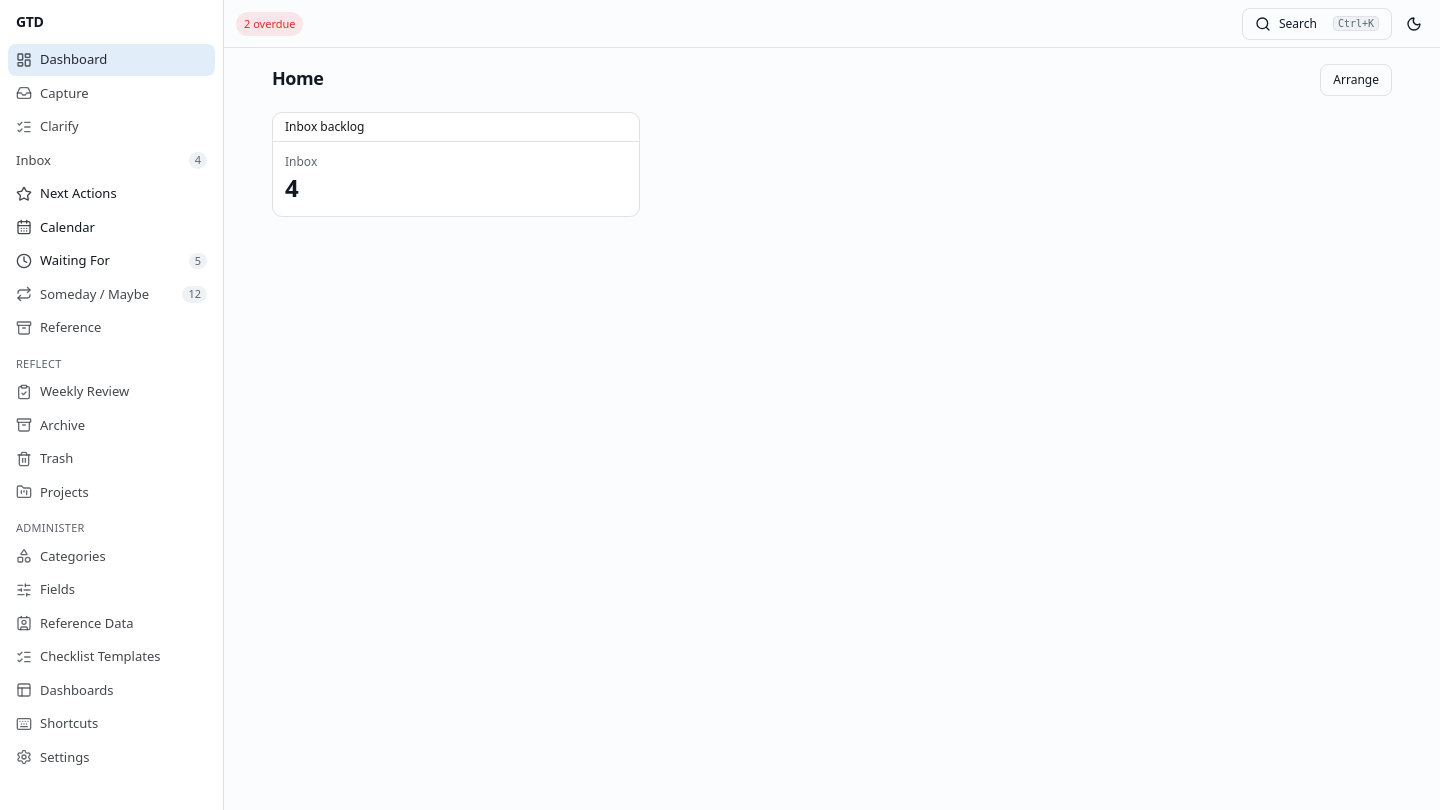
Test: arranging › offers an arrange mode
Click the button "Arrange".
click(1356, 80)  # box [1320,64,1392,96]
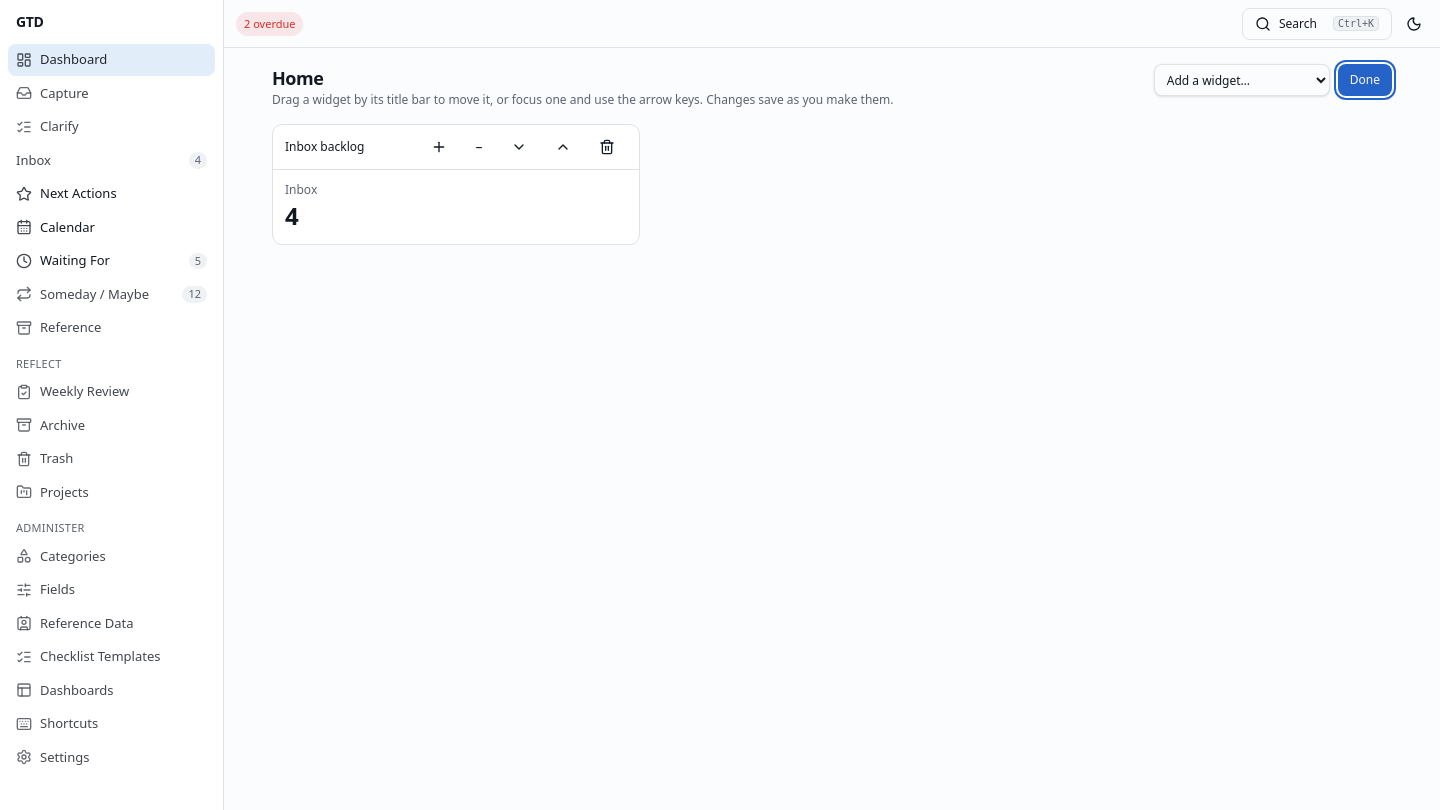
expect the button "Done" is shown: met, box [1338,64,1392,96]
